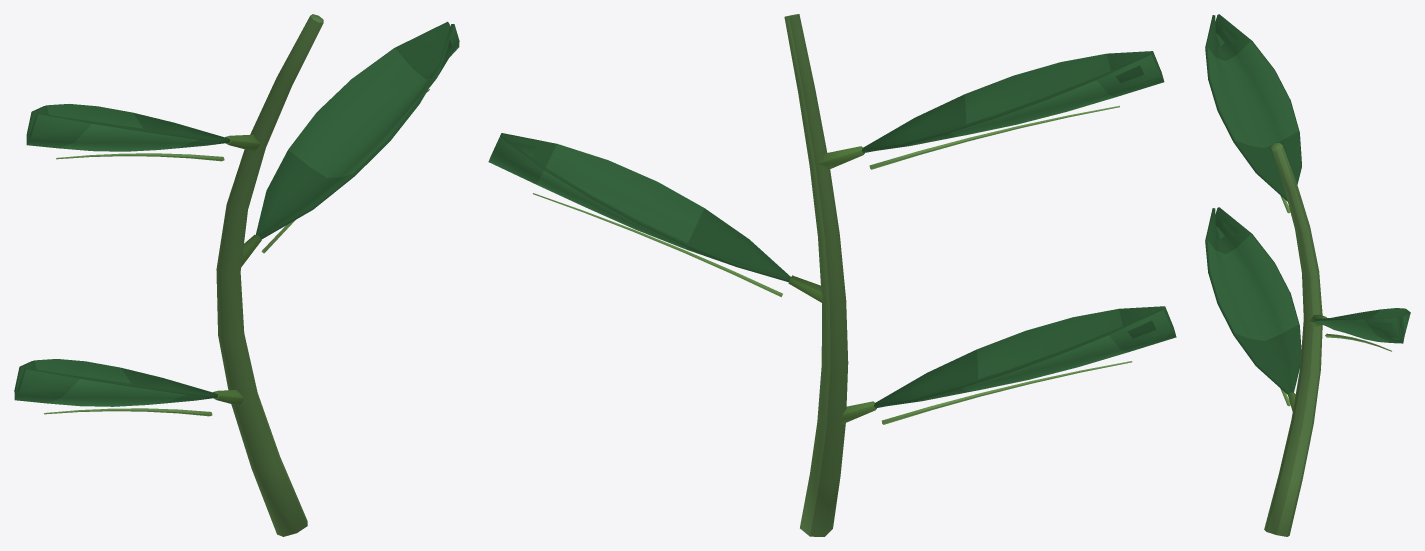
Rendered from garden-tulip-leaves-stem-1.glb.
3 views of the same model, side by side, from view 1: azimuth 30°, elevation 25°; view 2: azimuth 150°, elevation 25°; view 3: azimuth 270°, elevation 25° (orthographic). The views are drawn at different scales.
Parts seen in each view (by area): view 1: tulip-leaves-stem-1; view 2: tulip-leaves-stem-1; view 3: tulip-leaves-stem-1.
Part boxes in pixels (bbox=[...]): tulip-leaves-stem-1: bbox=[14, 14, 459, 536]; tulip-leaves-stem-1: bbox=[488, 14, 1176, 536]; tulip-leaves-stem-1: bbox=[1205, 14, 1410, 536].
Size of the model in its own units: 0.2658 by 0.2342 by 0.1067.
